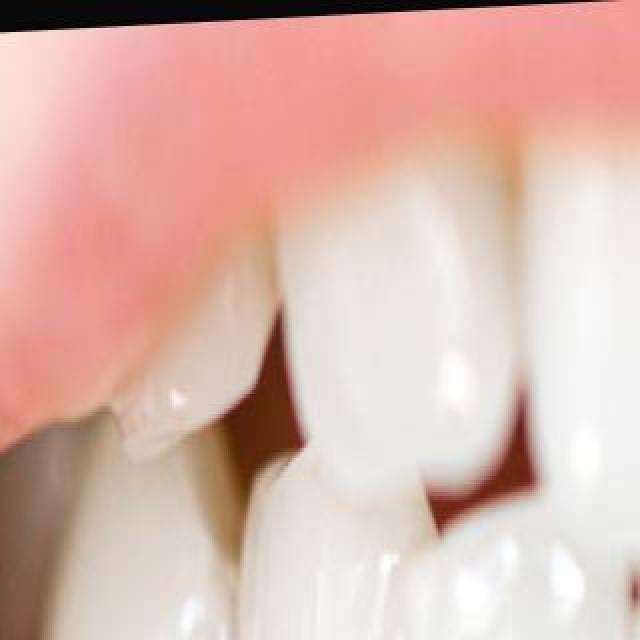maligned: (394, 494, 640, 640)
